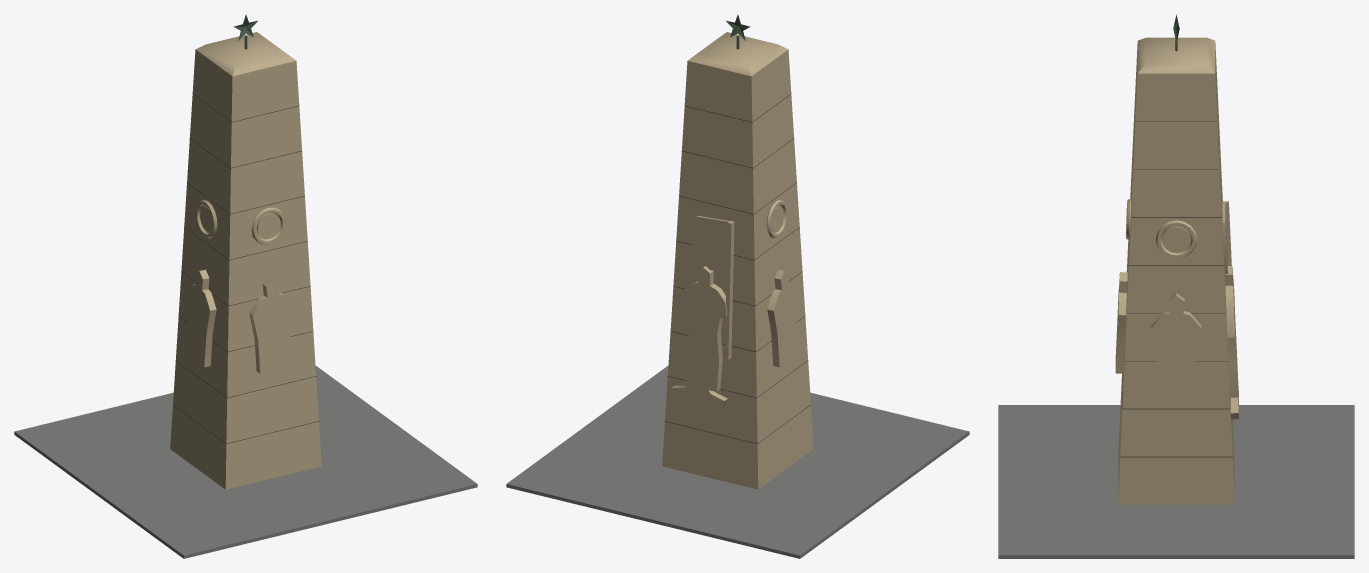
The model's file is mon_fahnentraeger.glb.
3 renders of one model, left to right at view 1: azimuth 30°, elevation 25°; view 2: azimuth 150°, elevation 25°; view 3: azimuth 270°, elevation 25°, orthographic. The views are drawn at different scales.
Parts seen in each view (by area): view 1: mon_fahnentraeger; view 2: mon_fahnentraeger; view 3: mon_fahnentraeger.
Boxes of the visible parts, x1,y1,x2,y2 form: mon_fahnentraeger: (14, 14, 477, 558); mon_fahnentraeger: (506, 14, 969, 558); mon_fahnentraeger: (998, 14, 1354, 558).
Size of the model in its own units: 11 by 16 by 11.
